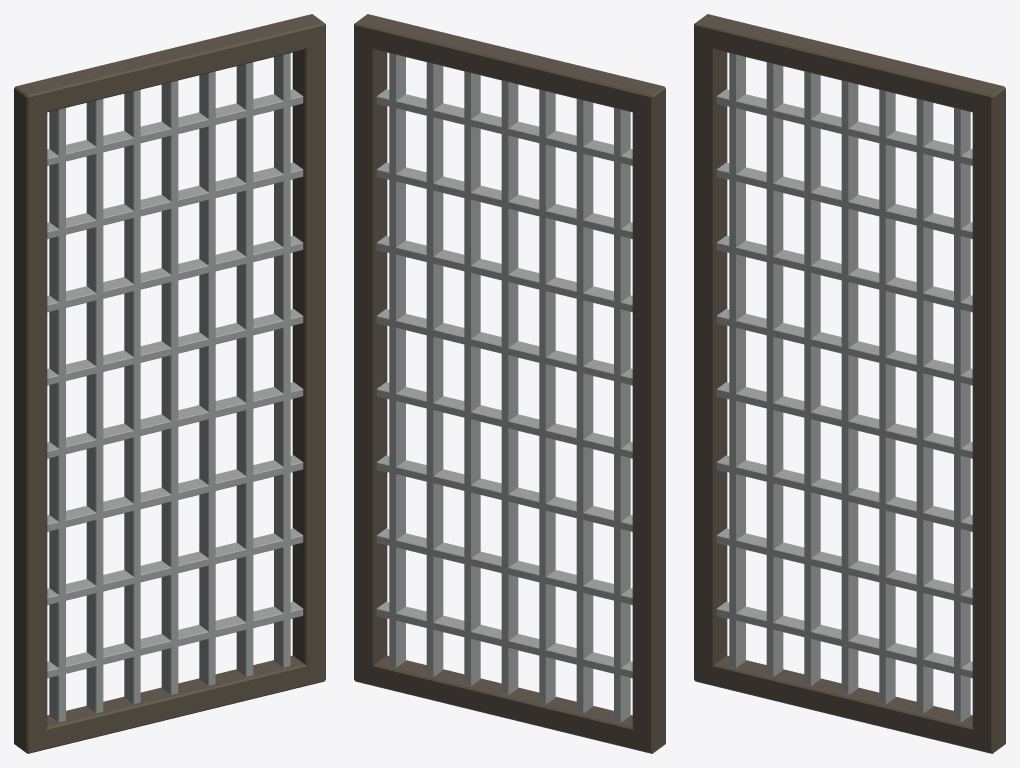
File: MW_CAGE_GATE_LODs.fbx
3 renders of one model, left to right at view 1: azimuth 30°, elevation 25°; view 2: azimuth 150°, elevation 25°; view 3: azimuth 330°, elevation 25°, orthographic.
Visible parts, largest first — view 1: MW_CAGE_GATE_LOD0; view 2: MW_CAGE_GATE_LOD0; view 3: MW_CAGE_GATE_LOD0.
Boxes of the visible parts, x1,y1,x2,y2 form: MW_CAGE_GATE_LOD0: (14, 14, 325, 753); MW_CAGE_GATE_LOD0: (354, 14, 665, 753); MW_CAGE_GATE_LOD0: (694, 14, 1005, 753).
Size of what is drawn, in the model's own units: 1 by 2.1 by 0.08.
